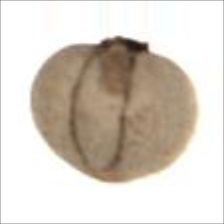L5: (67, 35, 152, 177)
L6: (29, 36, 200, 185)
